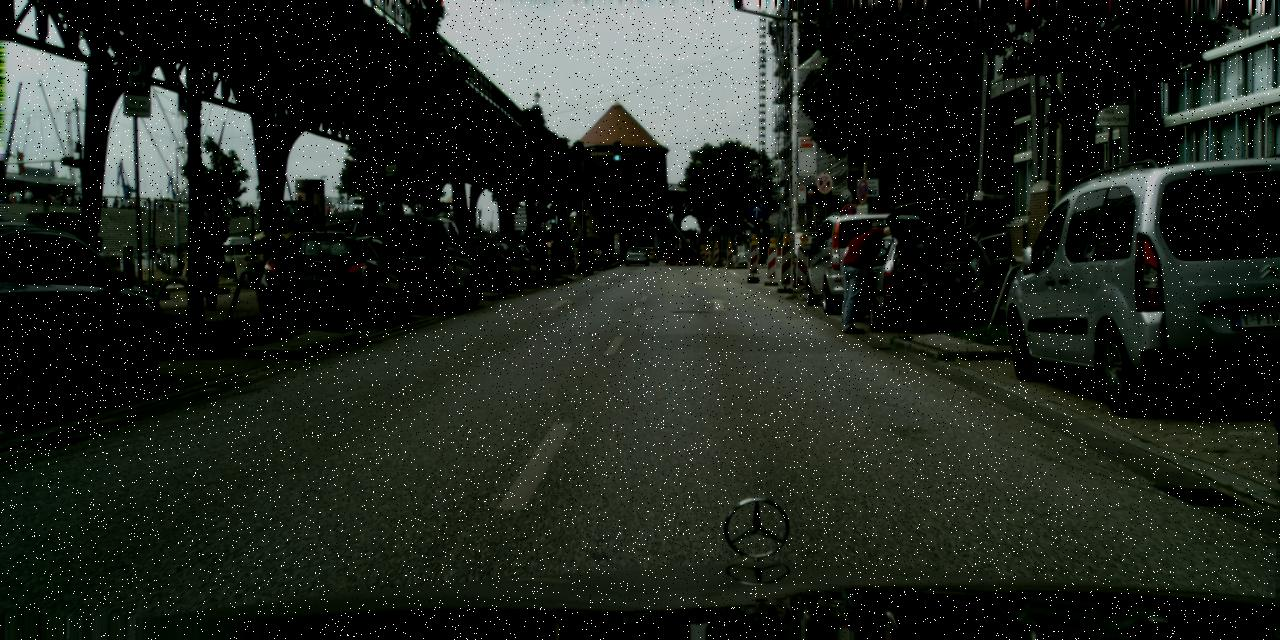ped: (189, 199, 232, 305), (838, 226, 881, 332), (324, 205, 330, 221), (354, 205, 360, 218), (332, 207, 337, 220)
